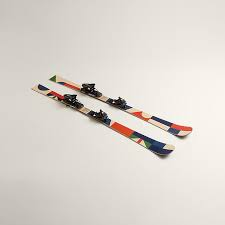skis: (29, 74, 193, 157)
